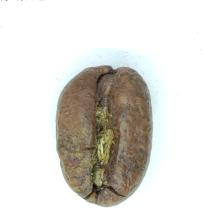NG: (61, 75, 127, 200)
